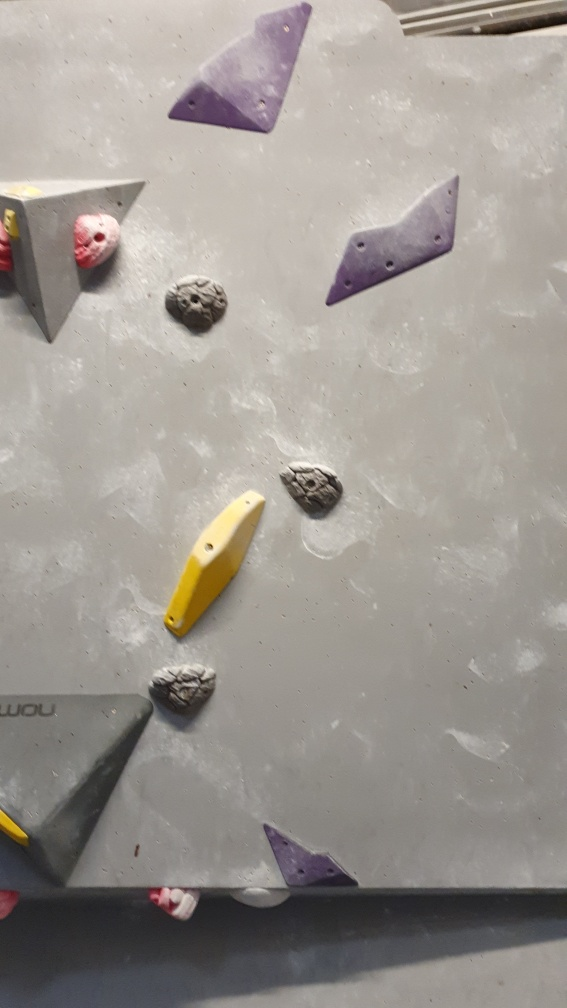Jug: (144, 662, 222, 720), (274, 461, 344, 522), (166, 271, 233, 332), (70, 212, 124, 270), (148, 880, 206, 924)
Pinch: (160, 487, 268, 643)
